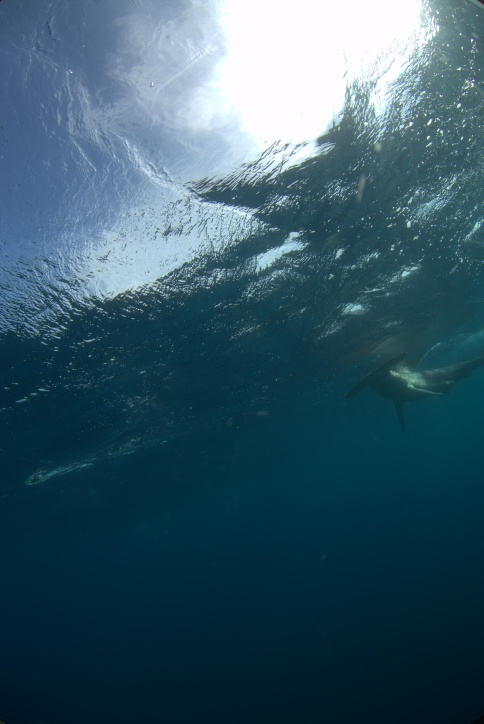Hammer: (339, 322, 471, 446)
